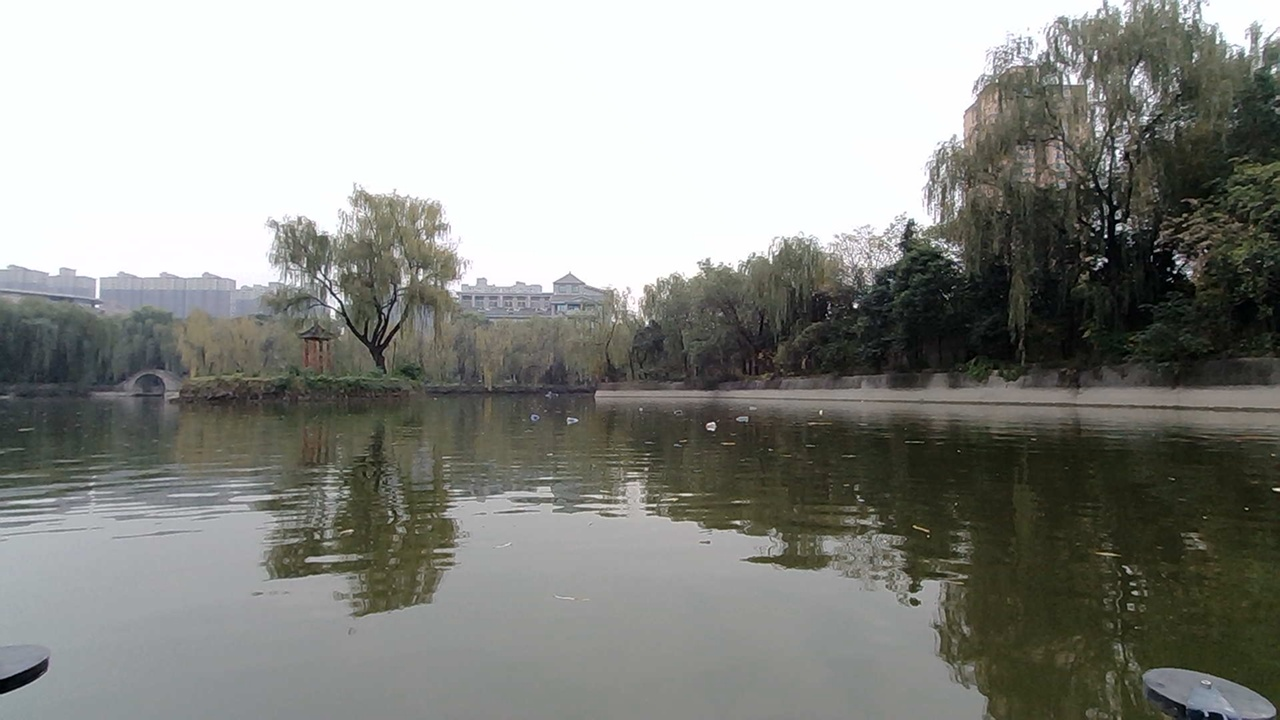bottle: (519, 400, 547, 430), (811, 400, 840, 427), (671, 398, 701, 422), (622, 393, 648, 415), (564, 406, 585, 427), (700, 416, 723, 434), (733, 407, 756, 424)
